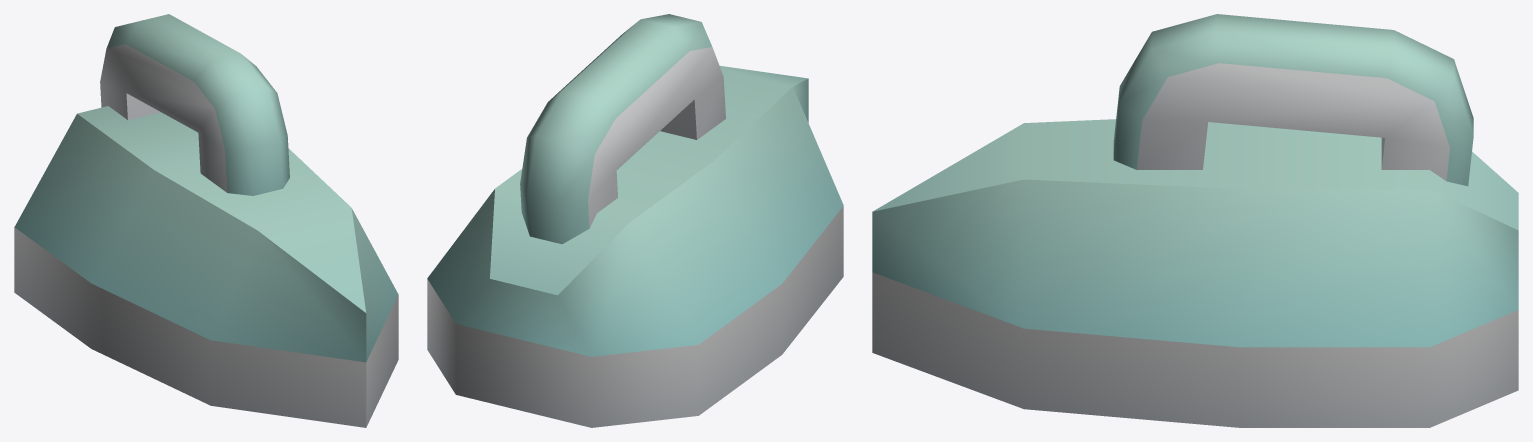
File: iron.glb
The picture shows the model from 3 angles, left to right: view 1: azimuth 30°, elevation 25°; view 2: azimuth 150°, elevation 25°; view 3: azimuth 270°, elevation 25°; orthographic projection. The views are drawn at different scales.
Visible parts, largest first — view 1: iron; view 2: iron; view 3: iron.
Part boxes in pixels (x1,y1,x2,y2): iron: (14, 14, 398, 427); iron: (427, 14, 843, 427); iron: (872, 14, 1518, 427).
Size of the model in its own units: 0.1532 by 0.1567 by 0.2784.
